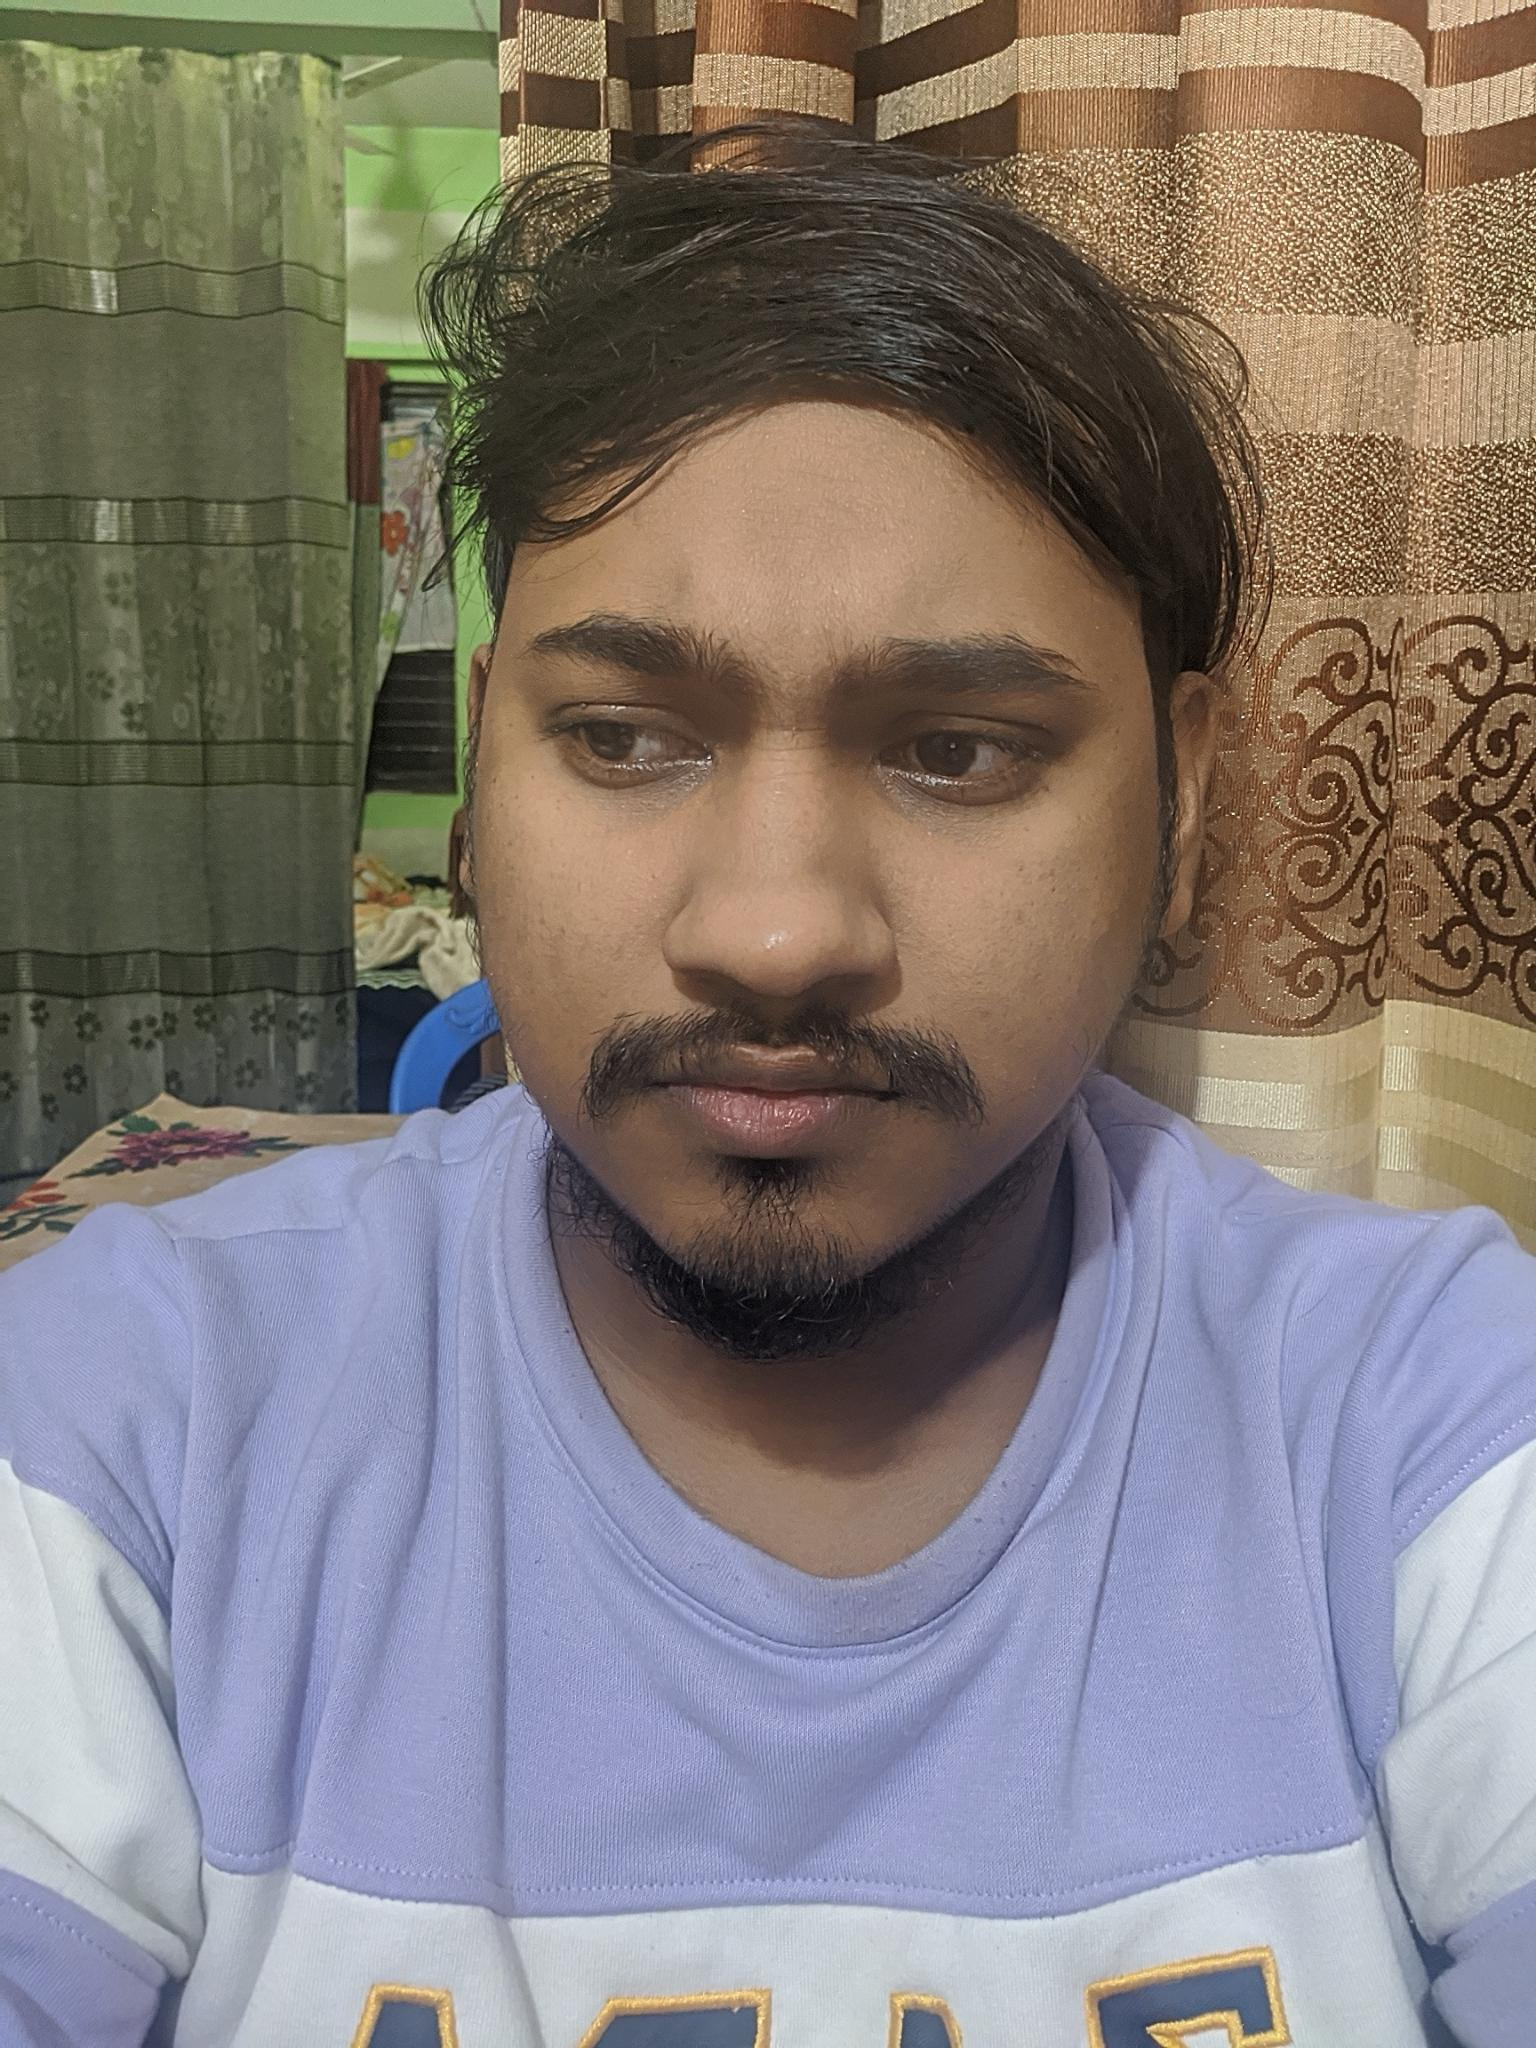Angry: (487, 511, 1108, 1305)
